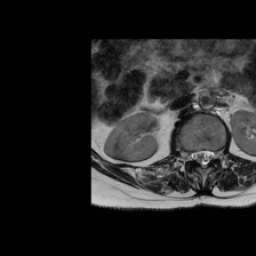CCS_normal: (199, 143, 207, 170)
LFS_normal: (214, 145, 220, 163)
LLS_normal: (206, 145, 213, 166)
RFS_normal: (184, 144, 191, 167)
RLS_normal: (191, 146, 199, 164)
